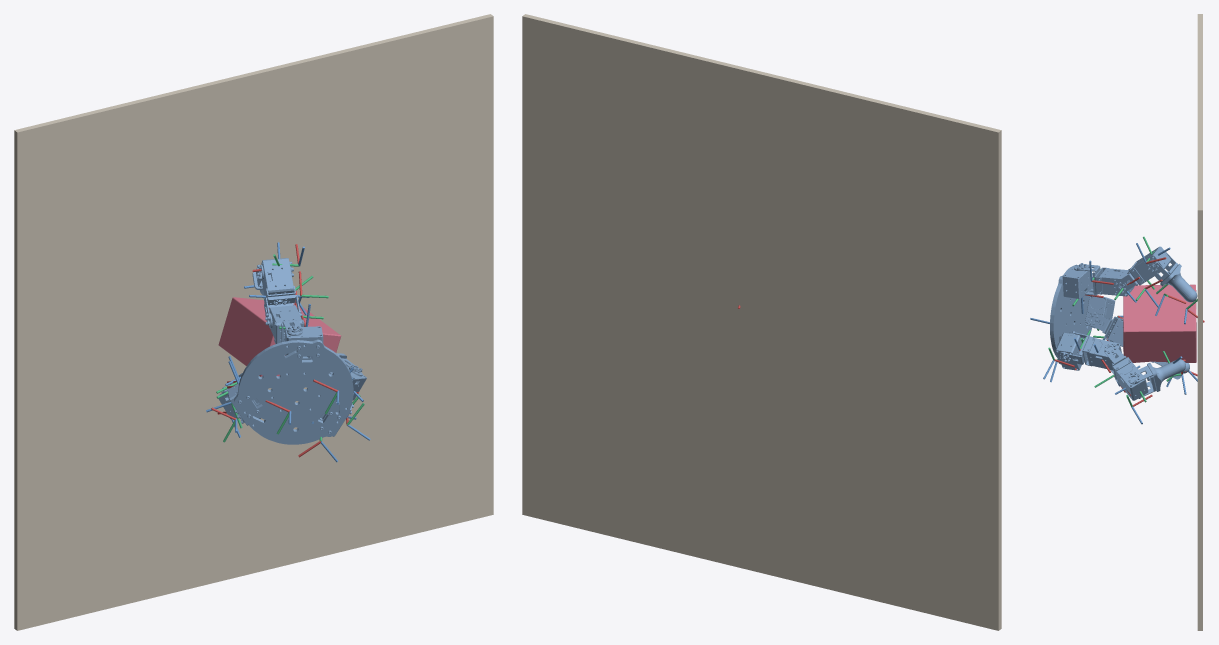
The picture shows the model from 3 angles, left to right: view 1: azimuth 30°, elevation 25°; view 2: azimuth 150°, elevation 25°; view 3: azimuth 270°, elevation 25°; orthographic projection. The views are drawn at different scales.
Parts seen in each view (by area): view 1: environment, hand, target_object; view 2: environment; view 3: hand, target_object, environment.
Part boxes in pixels (x1,y1,x2,y2): environment: (14,14,493,630); hand: (218,258,366,444); target_object: (218,297,341,376); environment: (522,14,1001,630); hand: (1050,246,1197,400); target_object: (1123,284,1196,362); environment: (1197,14,1202,630).
Bounding box in the file's own units: 0.7 × 0.7 × 0.2633.
